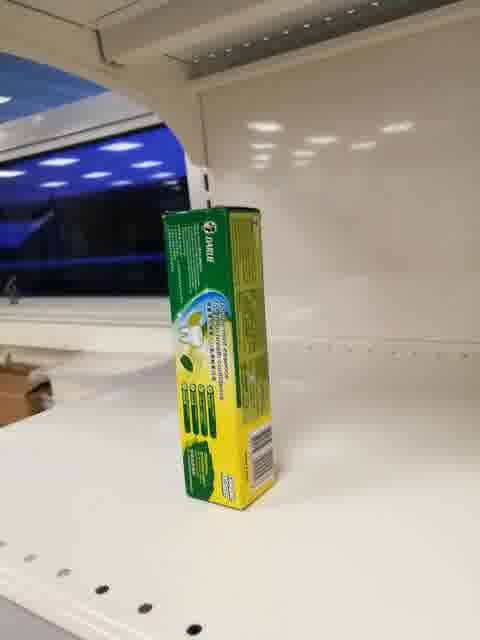toothpaste: (161, 205, 276, 510)
